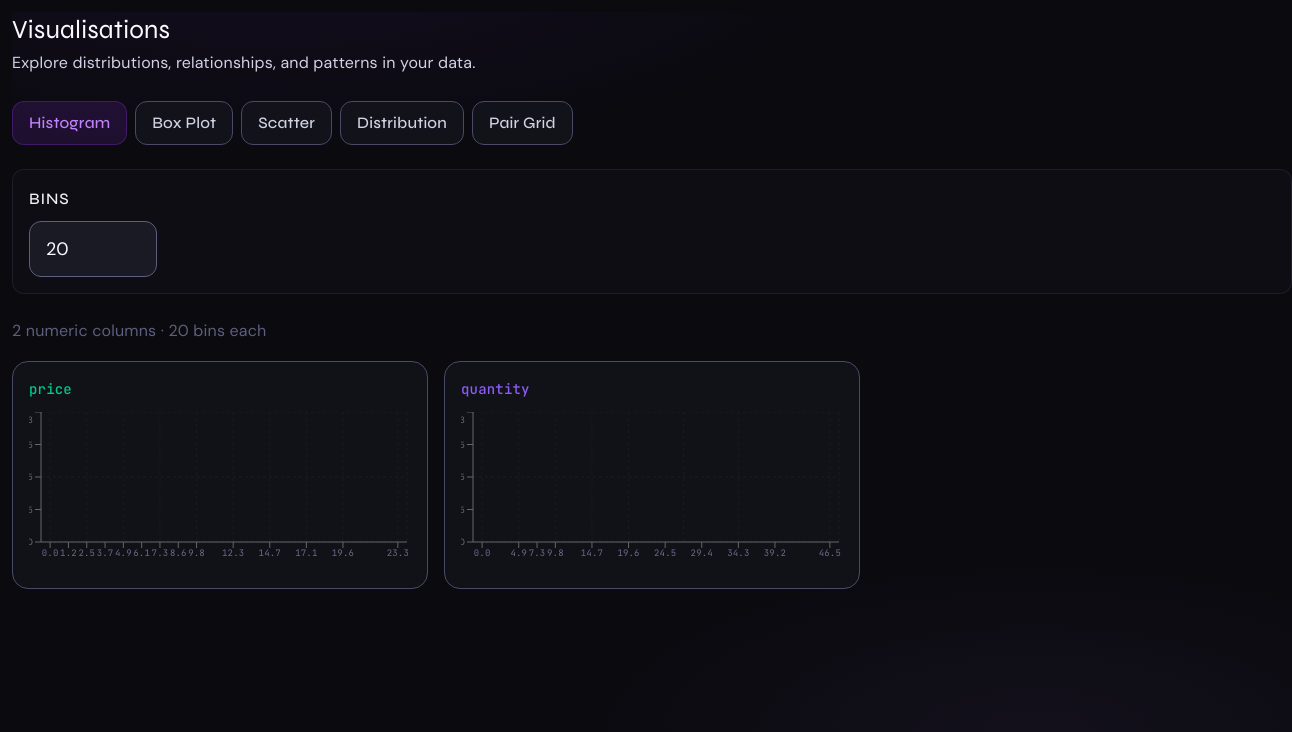
PlotsSection — Histogram zoom modal › closes the modal when Escape is pressed
Click the text "price": (220, 475) top-left (12, 360), bottom-right (428, 589)
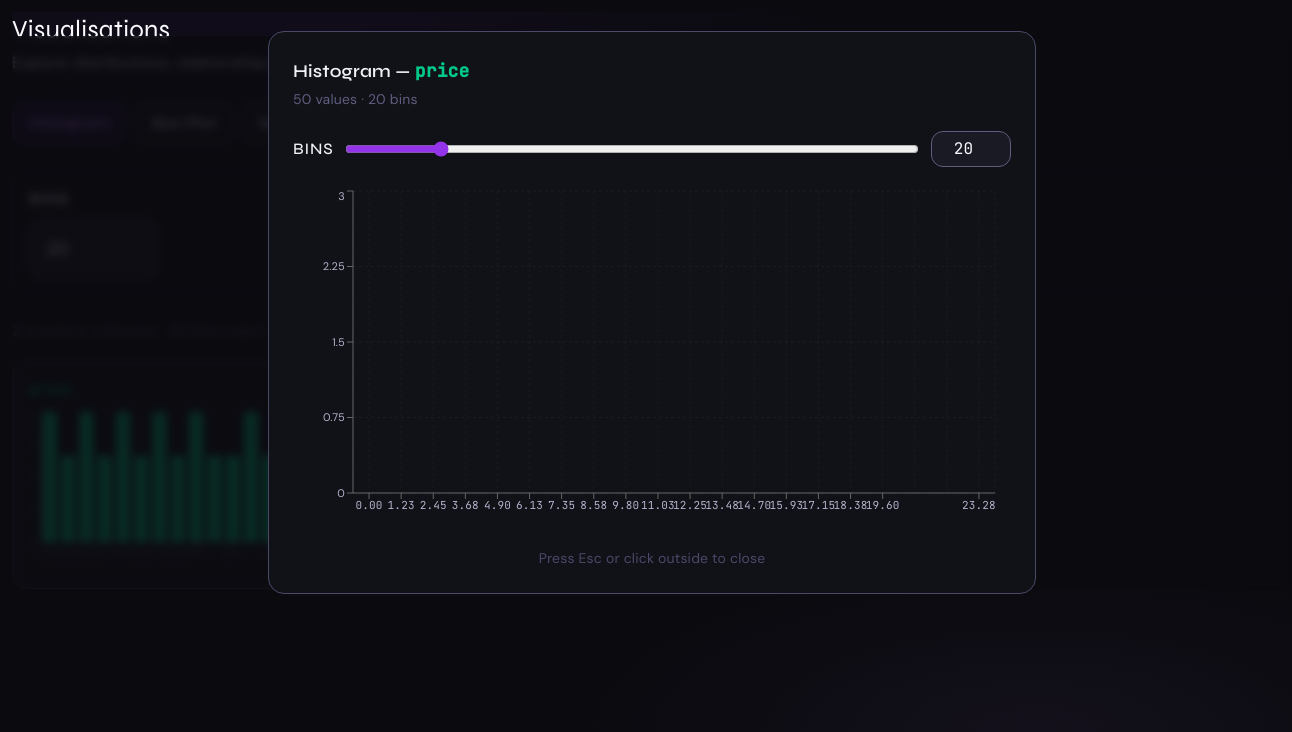
Check: the text "Press Esc or click outside to close" is shown, box top-left (539, 549), bottom-right (765, 567)
Press Escape
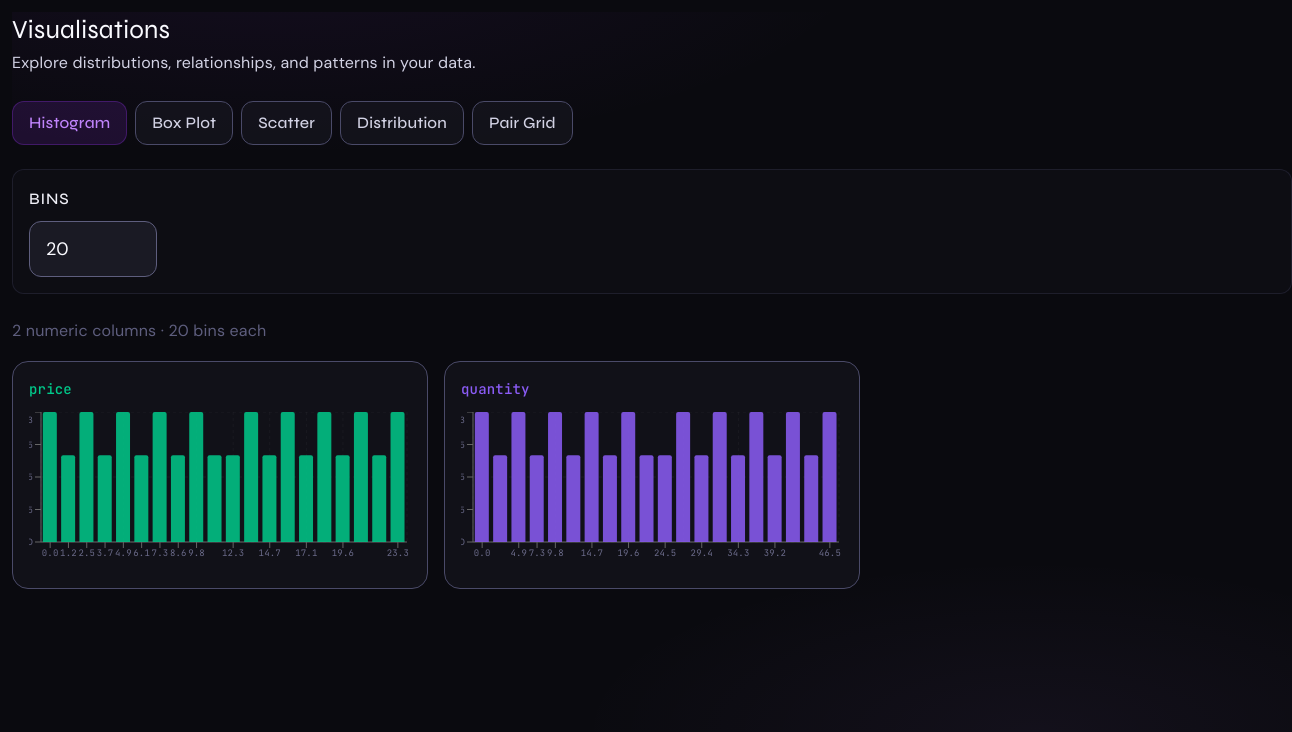
Check: the text "Press Esc or click outside" is gone
